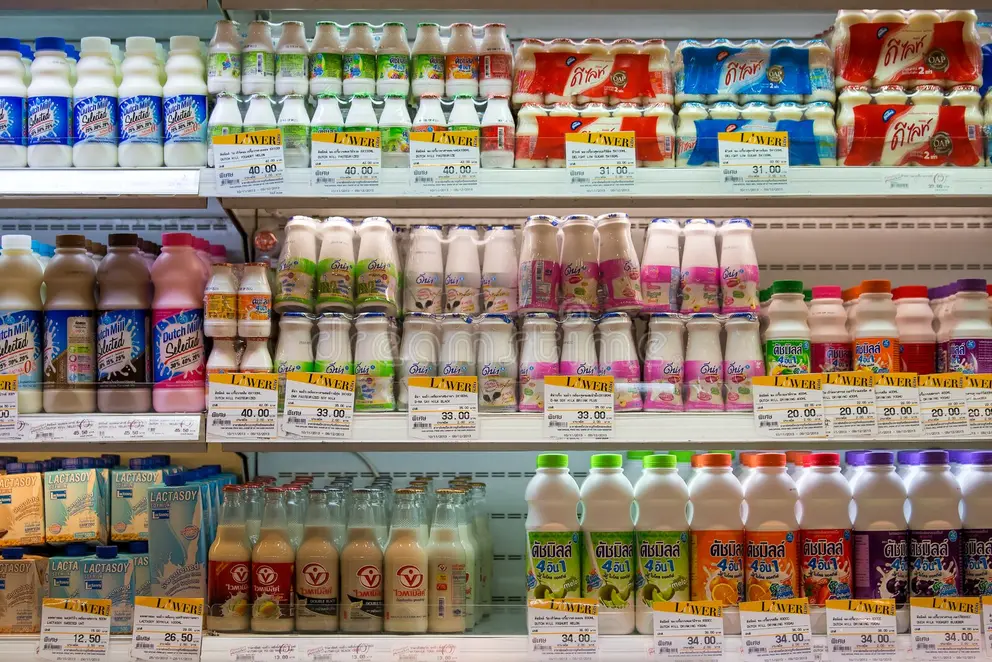milk: (153, 233, 206, 412), (118, 36, 162, 166), (27, 38, 71, 166), (852, 281, 900, 371), (344, 24, 375, 92)
